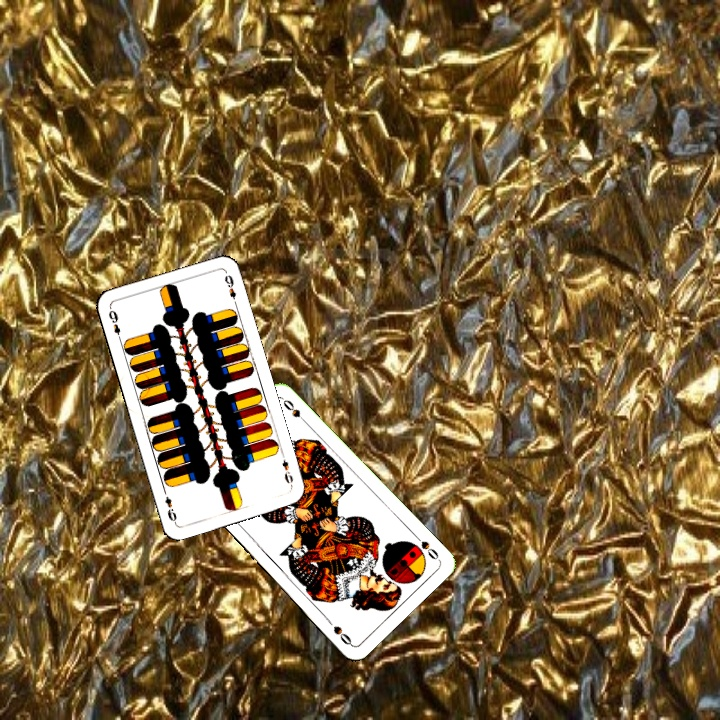E9: (104, 306, 124, 344), (277, 449, 296, 489)
SO: (410, 530, 442, 563)
